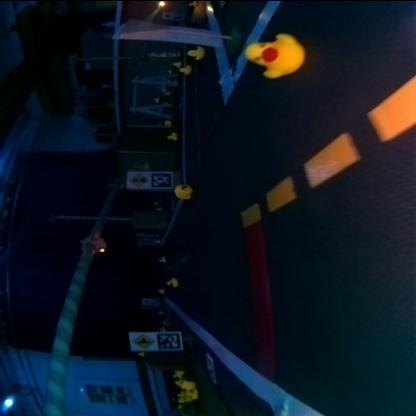Duckie: (244, 32, 304, 76), (174, 183, 192, 197), (188, 46, 202, 56), (178, 64, 190, 74), (165, 278, 177, 284), (166, 132, 174, 138)
Intersection sign: (132, 332, 154, 348)
QR code: (202, 353, 216, 383), (155, 332, 180, 348), (151, 172, 170, 186)
Signal sign: (128, 172, 147, 186)
Traffic light: (80, 236, 106, 252)
